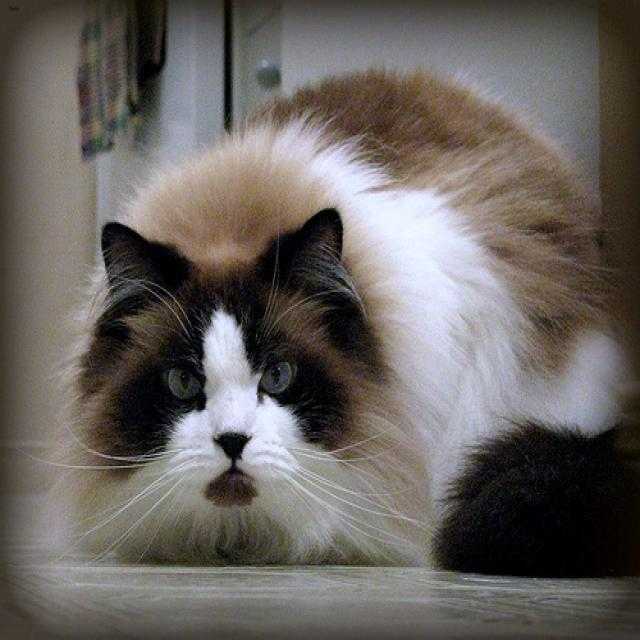Ragdoll: (99, 205, 342, 510)
